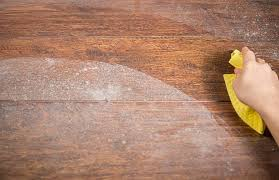Wet-floor: (153, 15, 263, 156), (5, 5, 190, 66)
